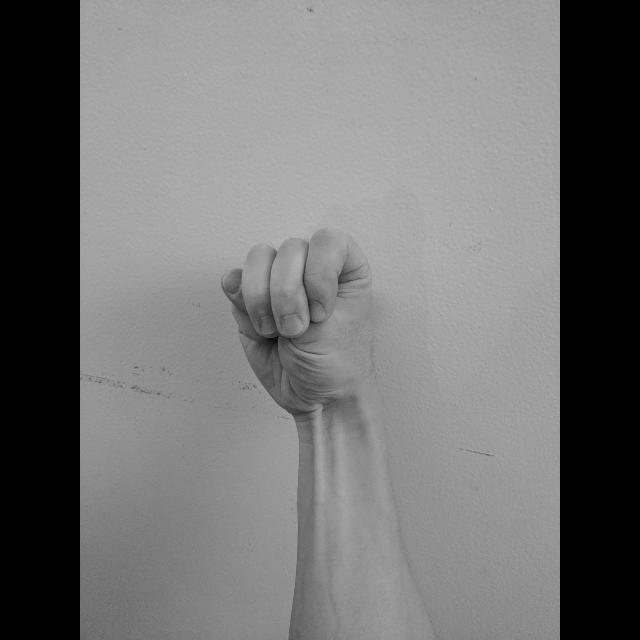M: (213, 222, 383, 418)
